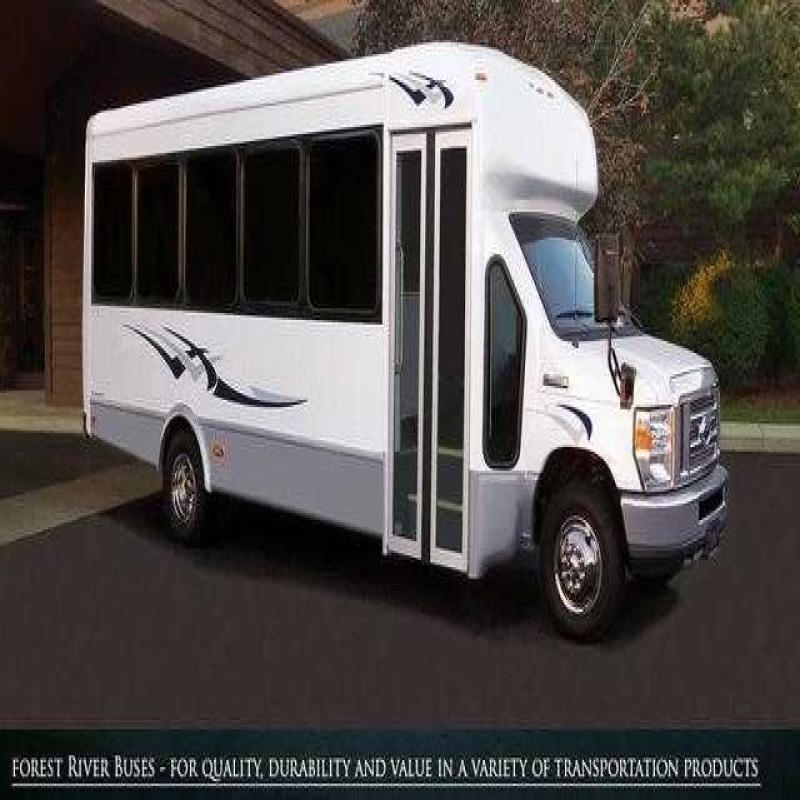bus: (72, 29, 756, 680)
